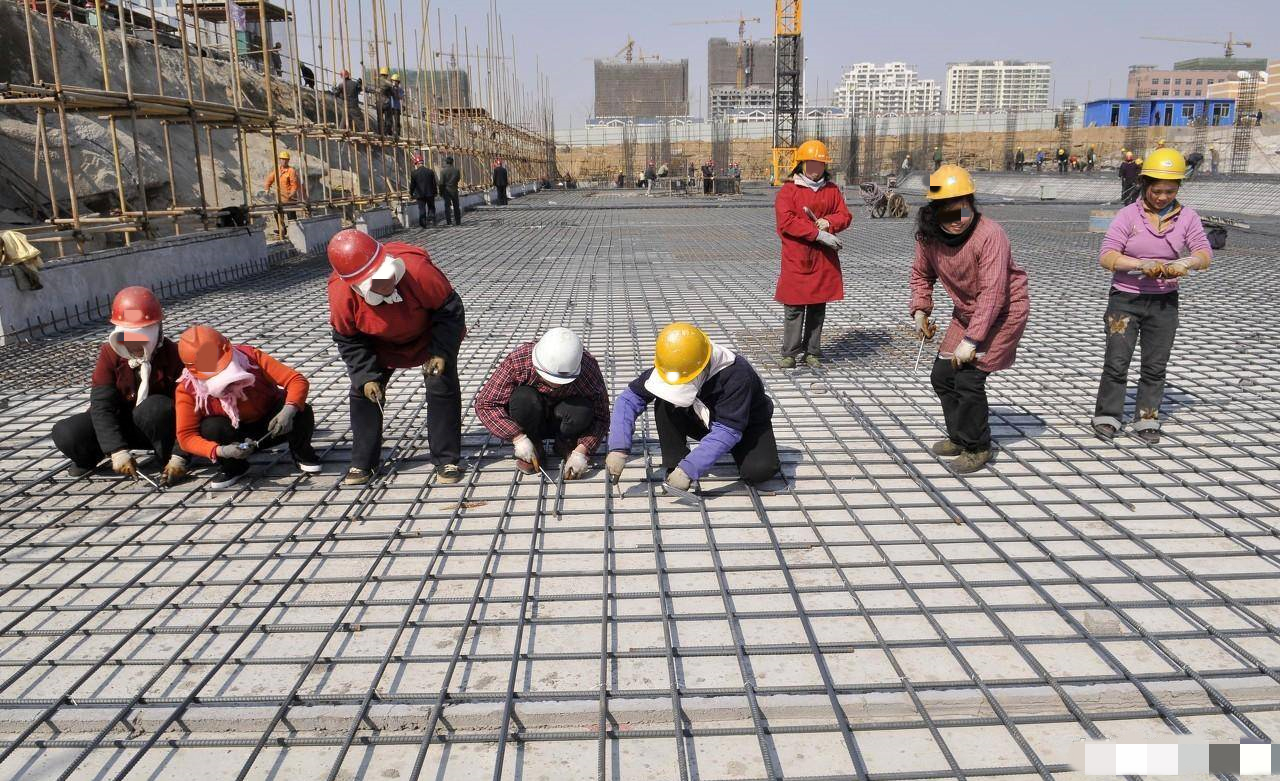helmet: (327, 227, 387, 284), (655, 323, 710, 384), (531, 326, 583, 385), (178, 324, 232, 380), (109, 287, 164, 329), (926, 166, 975, 199), (1140, 148, 1187, 180), (793, 139, 832, 163), (278, 151, 291, 159), (414, 156, 423, 163)
person: (322, 227, 473, 491), (906, 165, 1033, 476), (1090, 146, 1216, 445), (604, 321, 797, 504), (54, 287, 186, 481), (170, 323, 322, 483), (473, 321, 611, 484), (773, 138, 854, 379), (263, 151, 303, 235), (407, 154, 438, 228), (438, 156, 462, 227), (492, 159, 509, 206)
